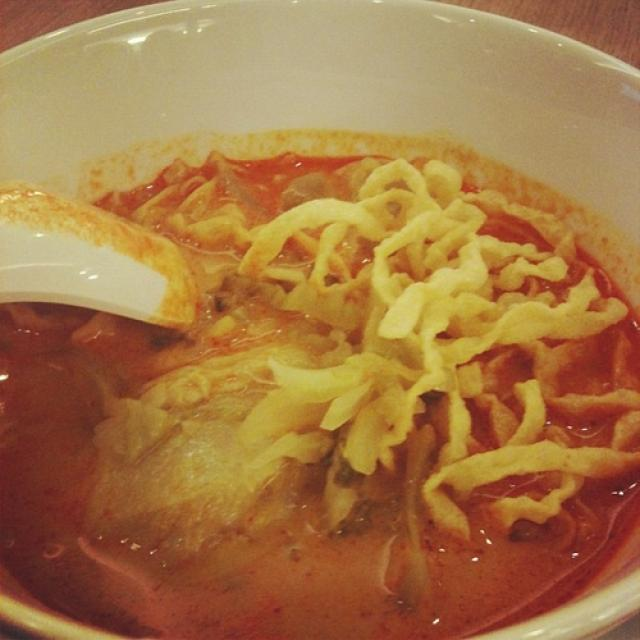面条主食: (29, 28, 616, 611)
